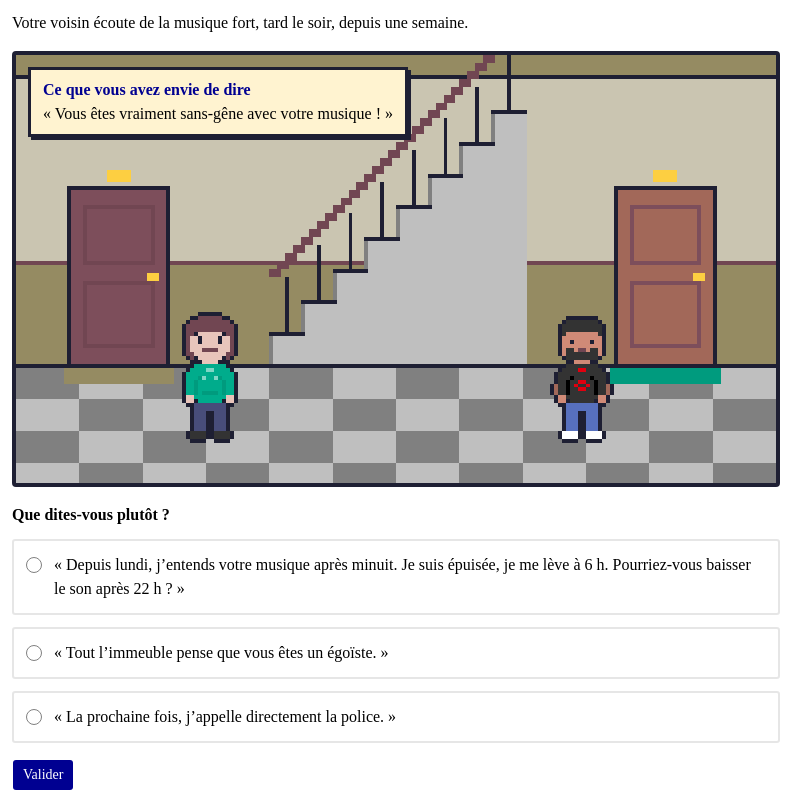
RephraseGame › asks for an answer before going on
(page scrolled)
Step 1. Click the button "Valider" → (43, 774), box [12,758,74,790]
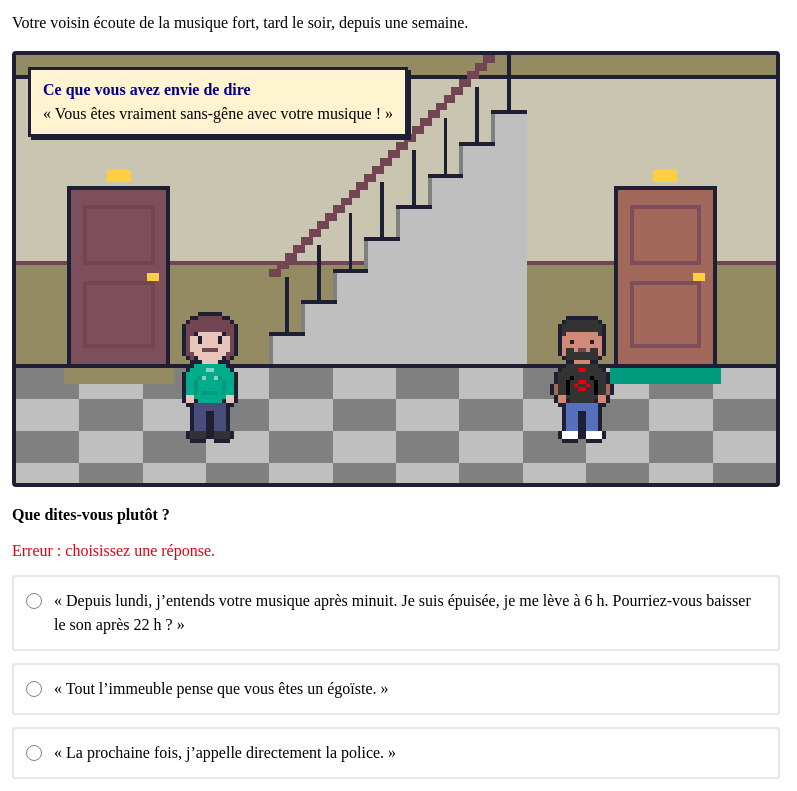
Now the text "Erreur : choisissez une réponse." is shown, box [12,542,215,558]
